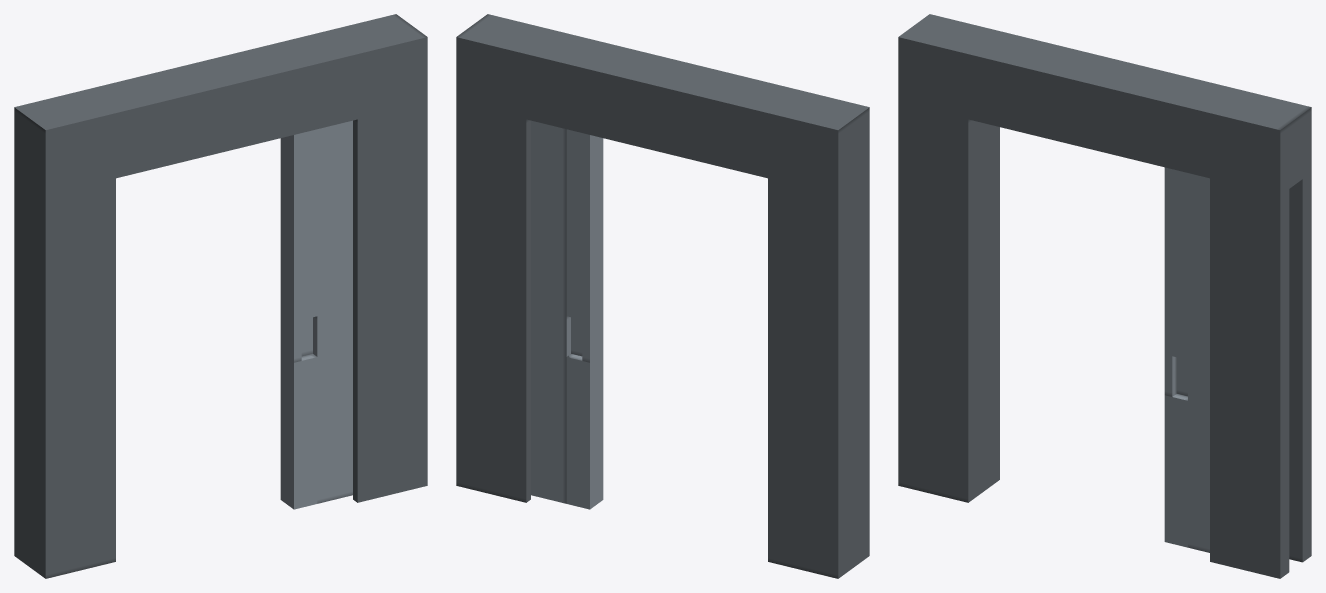
The model's file is dzwi_dom_02.dae.
3 views of the same model, side by side, from view 1: azimuth 30°, elevation 25°; view 2: azimuth 150°, elevation 25°; view 3: azimuth 330°, elevation 25° (orthographic).
Parts seen in each view (by area): view 1: Content; view 2: Content; view 3: Content.
Part boxes in pixels (x1,y1,x2,y2): Content: (14, 14, 427, 578); Content: (456, 14, 869, 578); Content: (898, 14, 1311, 578).
Bounding box in the file's own units: 49 × 55 × 7.
Materials: 1 (1 with a texture image).
